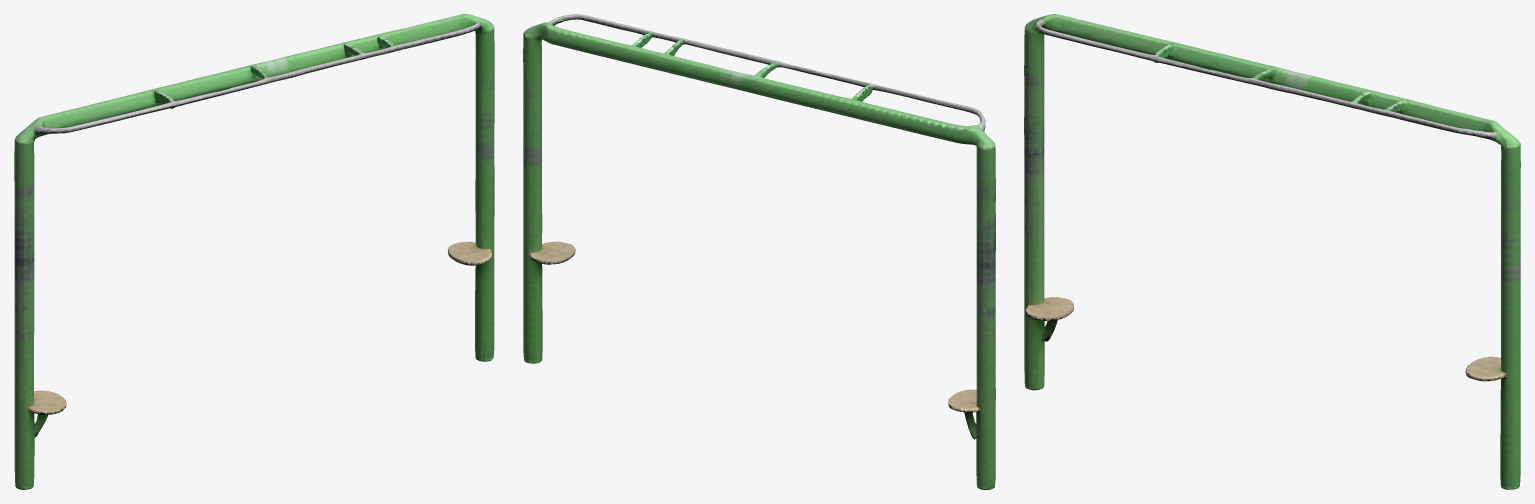
Rendered from pullup-green.glb.
3 views of the same model, side by side, from view 1: azimuth 30°, elevation 25°; view 2: azimuth 150°, elevation 25°; view 3: azimuth 330°, elevation 25° (orthographic). The views are drawn at different scales.
Parts seen in each view (by area): view 1: bar-green; view 2: bar-green; view 3: bar-green.
Boxes of the visible parts, <box> form: bar-green: <box>14,14,494,489</box>; bar-green: <box>523,14,995,489</box>; bar-green: <box>1024,14,1520,489</box>.
Bounding box in the file's own units: 3.14 × 2.3 × 0.3279.
Materials: 1 (1 with a texture image).
